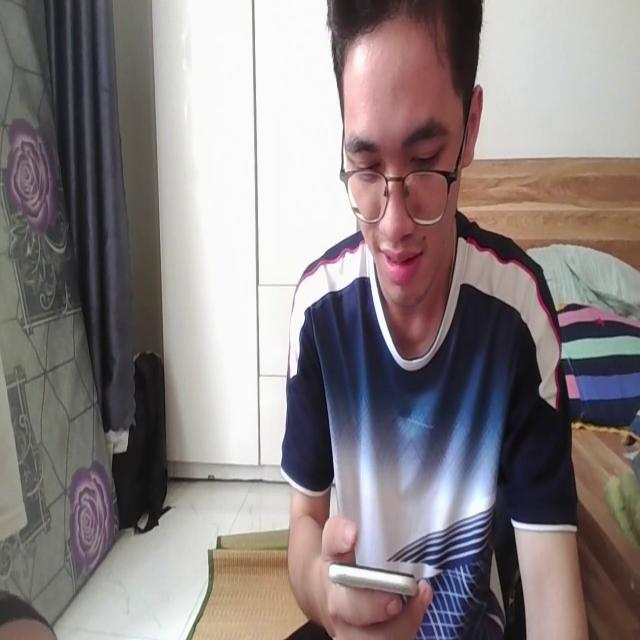phone: (329, 551, 422, 606)
student: (281, 0, 597, 640)
